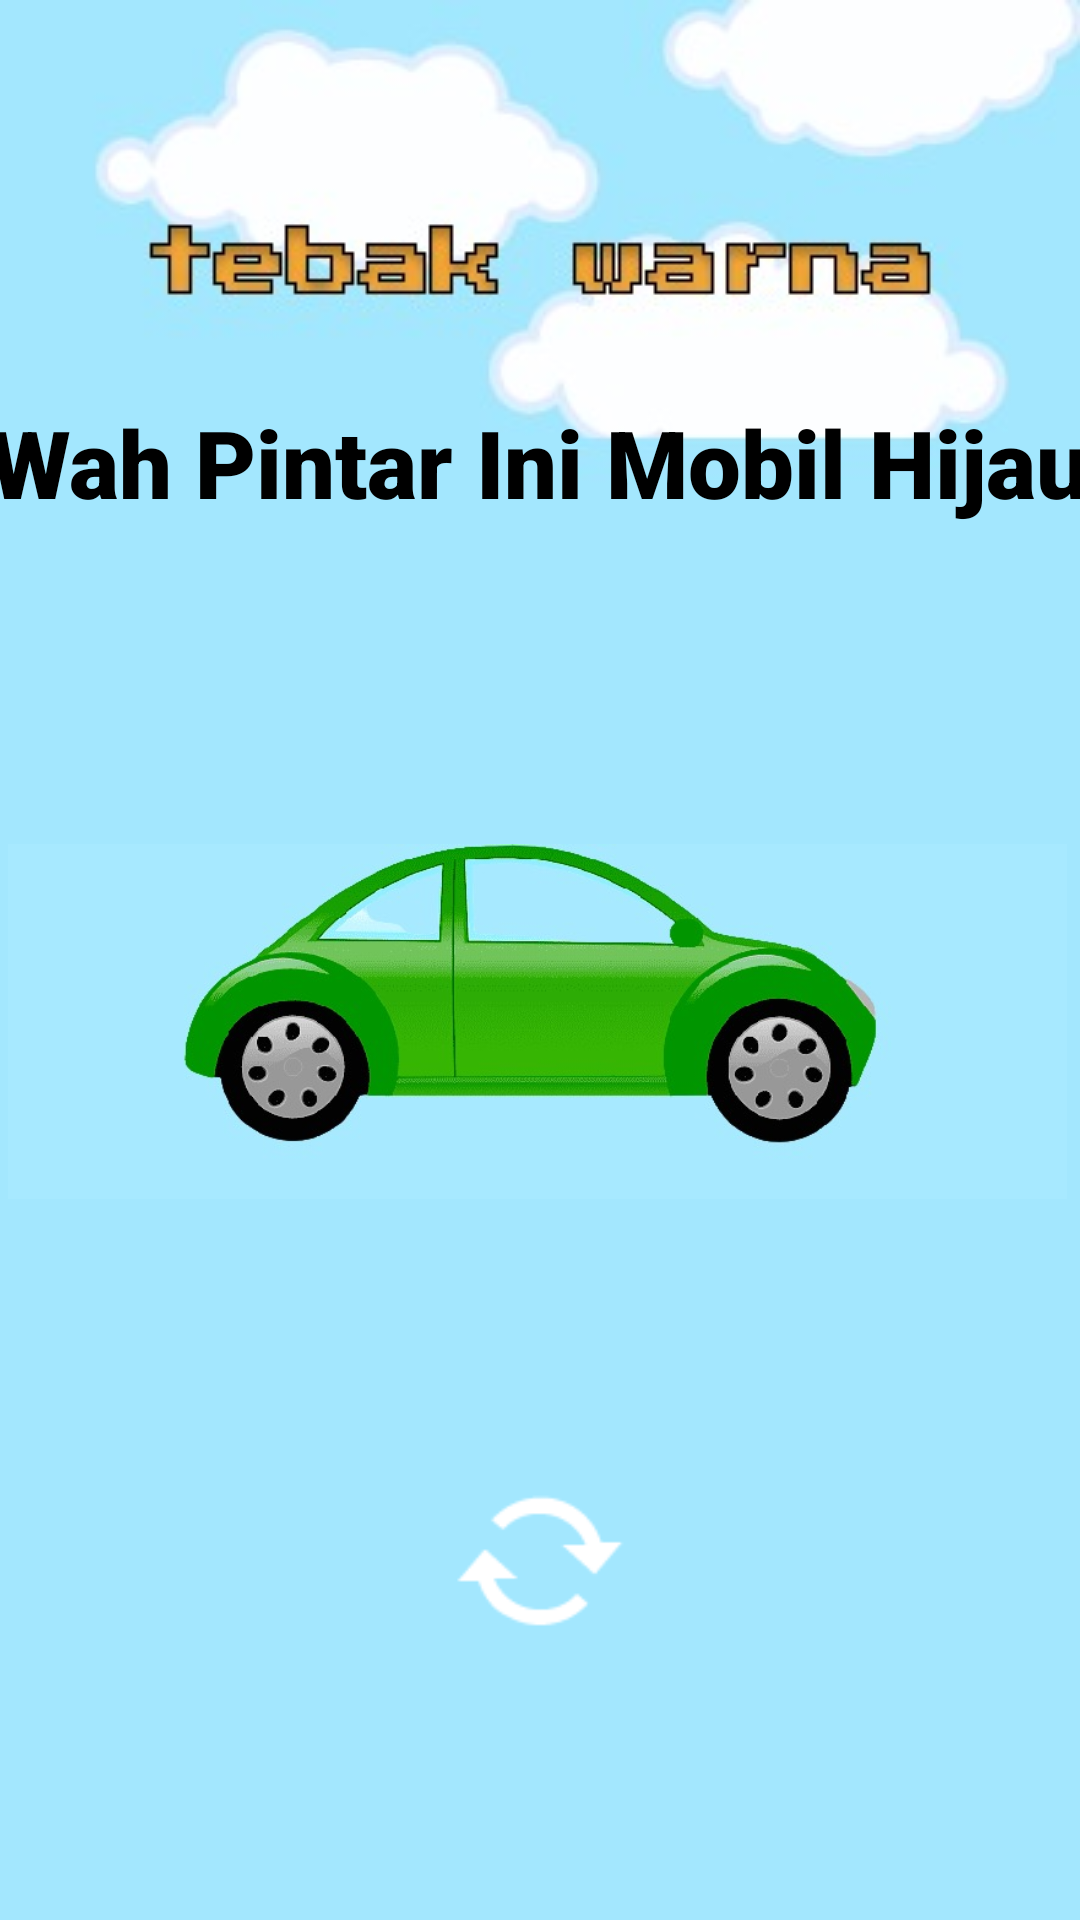

Locate icon controls on the screen. Image size 1080 × 1920, boxes as (x1, y1, x2, y2).
sync: (458, 1497, 622, 1626)
